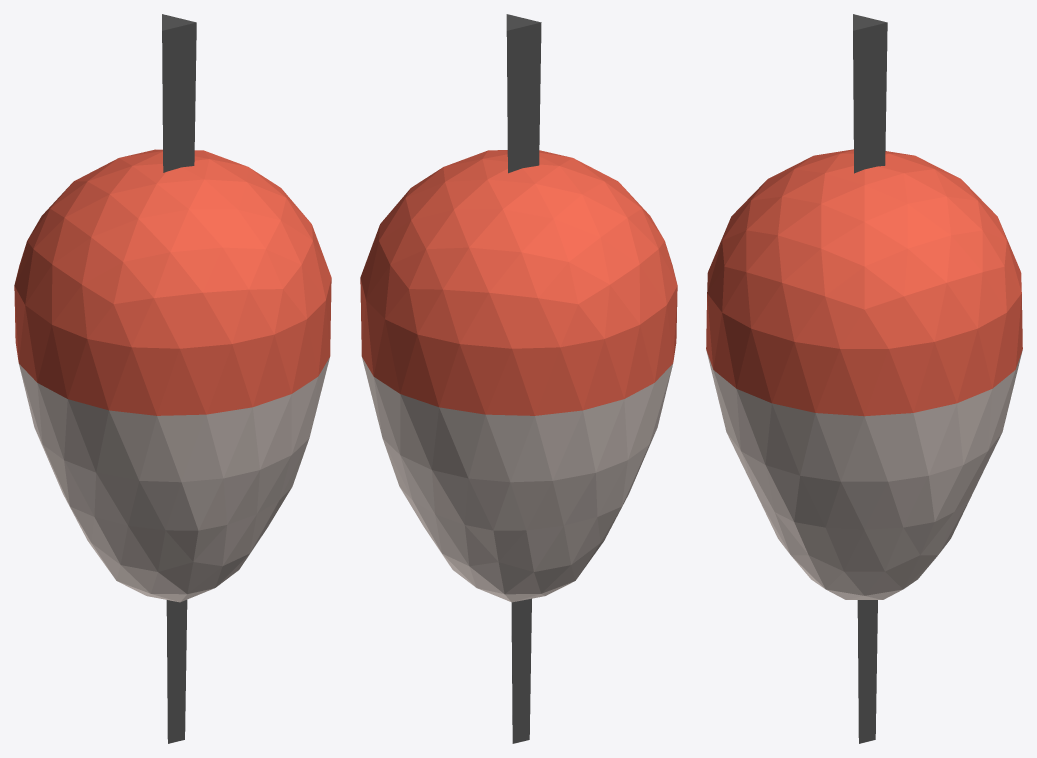
Rendered from Bait.fbx.
The picture shows the model from 3 angles, left to right: view 1: azimuth 30°, elevation 25°; view 2: azimuth 150°, elevation 25°; view 3: azimuth 270°, elevation 25°; orthographic projection.
Parts seen in each view (by area): view 1: bait_koho, stick; view 2: bait_koho, stick; view 3: bait_koho, stick.
Part boxes in pixels (box(x1,y1,x2,y2)): bait_koho: box(14, 149, 331, 602); stick: box(162, 14, 196, 743); bait_koho: box(360, 150, 677, 602); stick: box(506, 14, 541, 743); bait_koho: box(706, 149, 1022, 599); stick: box(853, 14, 887, 743).
Size of the model in its own units: 109 by 274 by 109.
